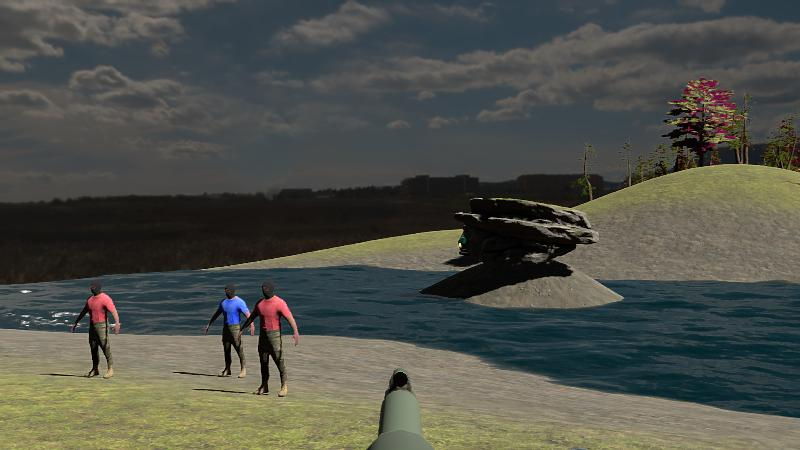Human: (239, 280, 298, 398), (73, 279, 119, 378), (206, 284, 253, 377)
